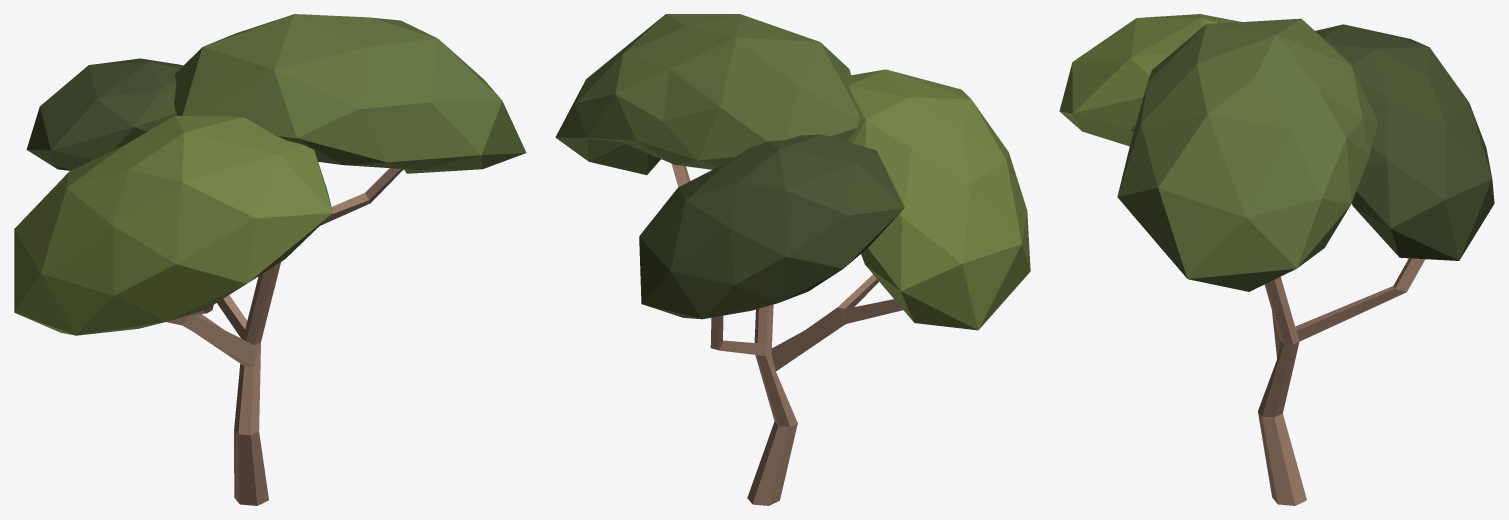
The model's file is Tree_Type3_03.glb.
3 renders of one model, left to right at view 1: azimuth 30°, elevation 25°; view 2: azimuth 150°, elevation 25°; view 3: azimuth 270°, elevation 25°, orthographic. The views are drawn at different scales.
Visible parts, largest first — view 1: Tree Type3 03 Model; view 2: Tree Type3 03 Model; view 3: Tree Type3 03 Model.
Part boxes in pixels (bbox=[...]): Tree Type3 03 Model: bbox=[14, 14, 526, 505]; Tree Type3 03 Model: bbox=[555, 14, 1030, 505]; Tree Type3 03 Model: bbox=[1059, 14, 1494, 505].
Size of the model in its own units: 4.44 by 4.37 by 3.57.
Materials: 1 (1 with a texture image).
